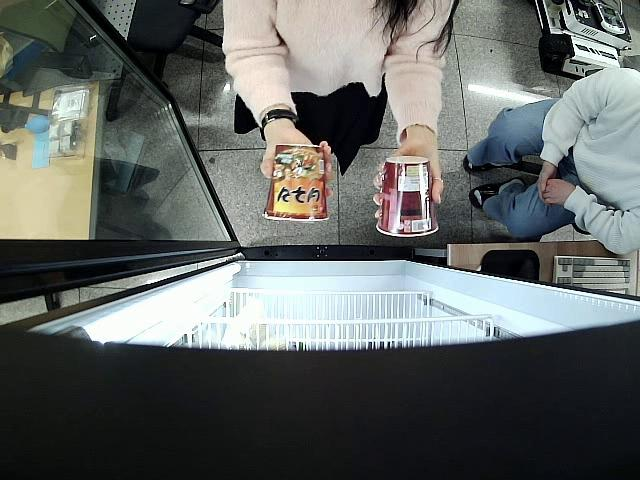00_hand: (372, 134, 445, 221), (259, 121, 334, 199)
06_nuguri_S: (263, 143, 331, 224), (376, 155, 438, 236)
